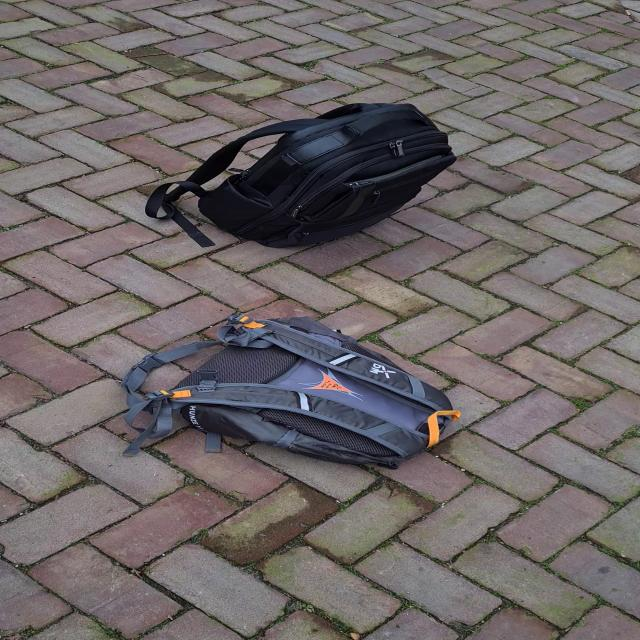backpack: (111, 310, 459, 476), (194, 98, 463, 259)
